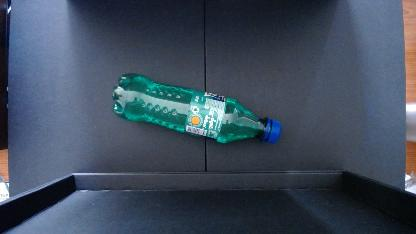Plastic Bottle: (108, 68, 286, 150)
